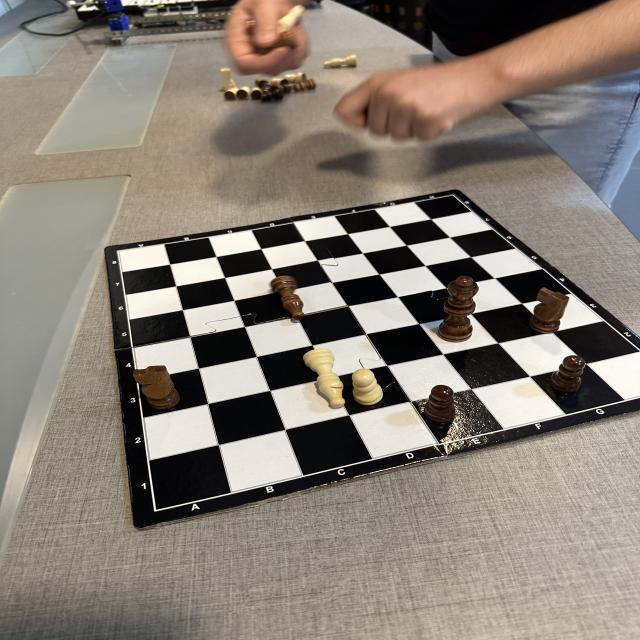Black-Bishop: (271, 276, 305, 321)
Black-Knight: (133, 365, 180, 410), (529, 287, 570, 334)
Black-Pawn: (550, 355, 586, 393), (423, 385, 456, 422), (293, 78, 316, 92), (261, 92, 276, 101)
Black-Queen: (438, 276, 479, 342)
White-Bishop: (302, 348, 346, 408), (322, 54, 357, 69)
White-Pawn: (352, 369, 384, 406)
White-Rook: (220, 68, 236, 90)
